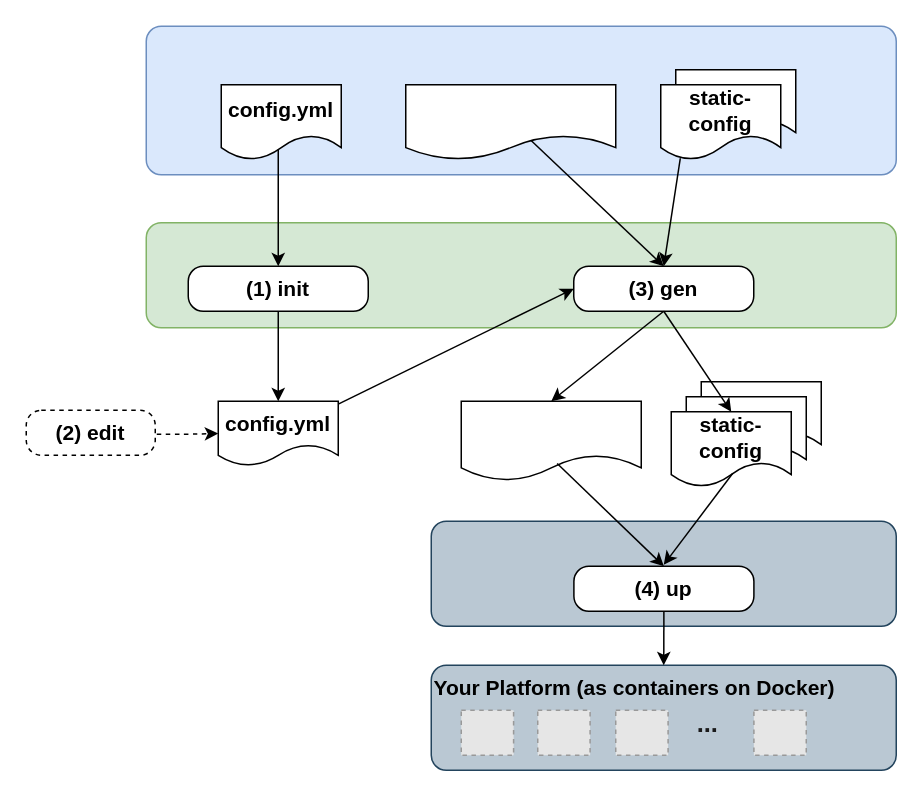
The diagram is 923 pixels wide and 797 high, and some of its shapes have lost their labels. Grey dashed boxes stand in for pictures. Here are the shapes that lost their labels. From the top down, the box of each, then its label:
(145, 25, 896, 175): A Platform Stack
(404, 83, 616, 160): docker-compose.yml.templ
(145, 221, 896, 328): Platys
(460, 400, 641, 481): docker-compose.yml
(430, 520, 896, 626): Docker Compose
